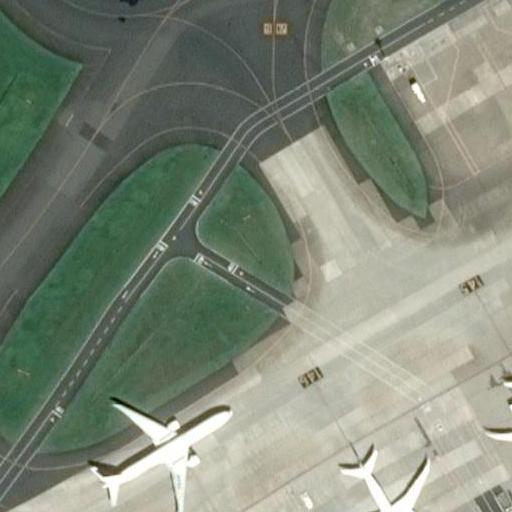Aircraft: (83, 391, 227, 512), (316, 447, 434, 512), (484, 359, 512, 476)
